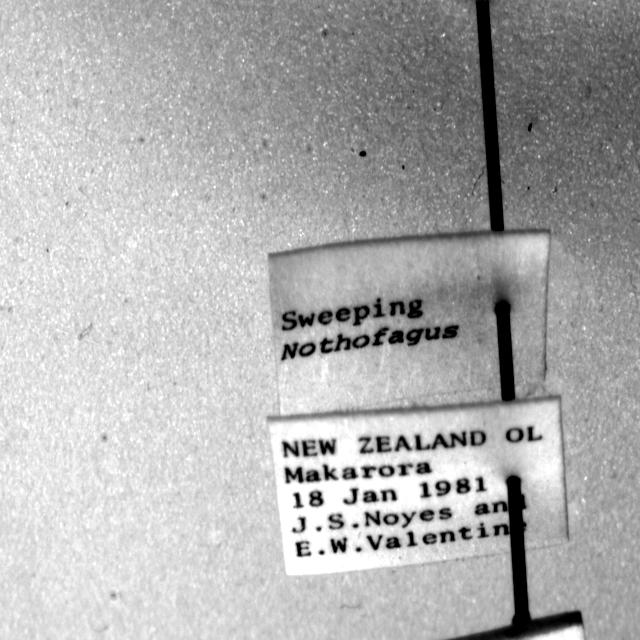typed_label: (269, 398, 568, 576), (269, 231, 550, 414)
